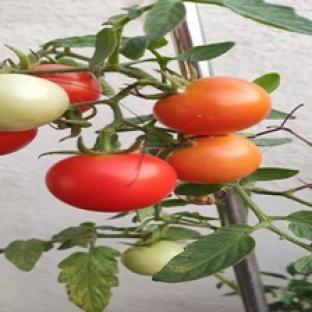Tomato: (46, 154, 176, 211), (154, 77, 271, 135), (168, 134, 261, 183), (0, 74, 69, 130), (31, 65, 101, 104), (122, 240, 183, 275), (0, 129, 37, 154)
